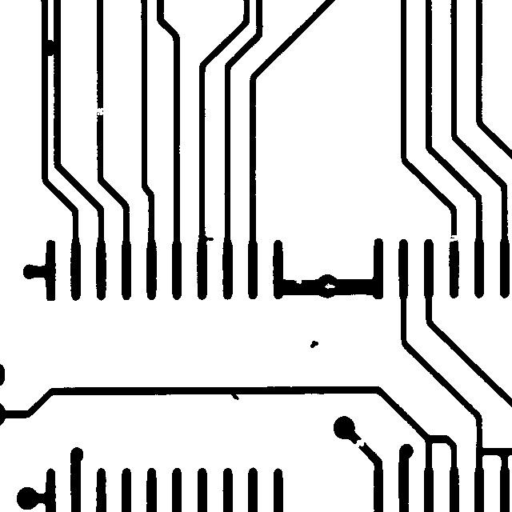copper: (302, 333, 326, 355)
mousebite: (286, 270, 309, 291)
open: (345, 430, 374, 455), (438, 227, 466, 252), (84, 100, 114, 122)
pin-hole: (317, 275, 342, 296)
short: (37, 32, 62, 63)
spur: (220, 380, 246, 407), (193, 227, 221, 250)
